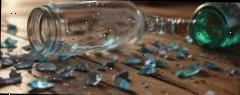glass: (25, 0, 146, 58), (188, 1, 240, 49)
